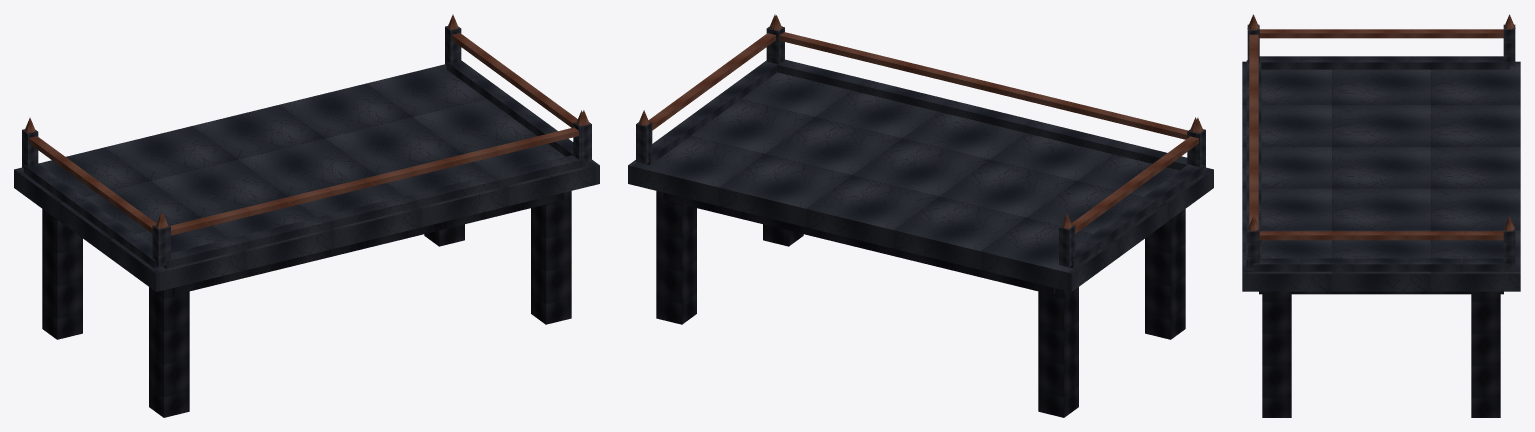
Rendered from blackstone-terrace.glb.
3 renders of one model, left to right at view 1: azimuth 30°, elevation 25°; view 2: azimuth 150°, elevation 25°; view 3: azimuth 270°, elevation 25°, orthographic. The views are drawn at different scales.
Parts seen in each view (by area): view 1: Terrace_Deck, Terrace_RearRail_Foot, Terrace_Support_-1_1, Terrace_Support_1_1, Terrace_Support_-1_-1, Terrace_RearRail_Rail, Terrace_Underdeck, Terrace_SideRail_-1_Foot, Terrace_SideRail_1_Foot, Terrace_SideRail_-1_Rail, Terrace_SideRail_1_Rail, Terrace_SideRail_-1_Post_2 (+1 smaller); view 2: Terrace_Deck, Terrace_RearRail_Foot, Terrace_Support_-1_-1, Terrace_Support_1_-1, Terrace_Support_-1_1, Terrace_RearRail_Rail, Terrace_Underdeck, Terrace_SideRail_-1_Foot, Terrace_SideRail_1_Foot, Terrace_SideRail_-1_Rail, Terrace_SideRail_1_Rail, Terrace_SideRail_-1_Post_1 (+2 smaller); view 3: Terrace_Deck, Terrace_Support_1_-1, Terrace_Support_1_1, Terrace_SideRail_1_Foot, Terrace_SideRail_-1_Foot, Terrace_SideRail_1_Rail, Terrace_SideRail_-1_Rail, Terrace_RearRail_Rail, Terrace_RearRail_Foot, Terrace_Underdeck, Terrace_SideRail_-1_Post_1, Terrace_SideRail_1_Post_1 (+1 smaller).
Part boxes in pixels (x1=…): Terrace_Deck: x1=14, y1=64, x2=599, y2=291; Terrace_RearRail_Foot: x1=163, y1=155, x2=585, y2=268; Terrace_Support_-1_1: x1=149, y1=287, x2=189, y2=417; Terrace_Support_1_1: x1=531, y1=191, x2=571, y2=324; Terrace_Support_-1_-1: x1=42, y1=209, x2=82, y2=339; Terrace_RearRail_Rail: x1=170, y1=127, x2=578, y2=235; Terrace_Underdeck: x1=172, y1=192, x2=564, y2=294; Terrace_SideRail_-1_Foot: x1=23, y1=163, x2=158, y2=268; Terrace_SideRail_1_Foot: x1=446, y1=60, x2=573, y2=156; Terrace_SideRail_-1_Rail: x1=29, y1=136, x2=156, y2=233; Terrace_SideRail_1_Rail: x1=451, y1=33, x2=577, y2=127; Terrace_SideRail_-1_Post_2: x1=152, y1=225, x2=168, y2=267; Terrace_Deck: x1=628, y1=72, x2=1213, y2=291; Terrace_RearRail_Foot: x1=774, y1=59, x2=1187, y2=170; Terrace_Support_-1_-1: x1=1038, y1=287, x2=1078, y2=417; Terrace_Support_1_-1: x1=656, y1=191, x2=696, y2=324; Terrace_Support_-1_1: x1=1145, y1=209, x2=1185, y2=339; Terrace_RearRail_Rail: x1=779, y1=32, x2=1187, y2=139; Terrace_Underdeck: x1=663, y1=192, x2=1055, y2=294; Terrace_SideRail_-1_Foot: x1=1069, y1=164, x2=1204, y2=268; Terrace_SideRail_1_Foot: x1=646, y1=60, x2=777, y2=165; Terrace_SideRail_-1_Rail: x1=1071, y1=136, x2=1198, y2=233; Terrace_SideRail_1_Rail: x1=648, y1=33, x2=775, y2=130; Terrace_SideRail_-1_Post_1: x1=1059, y1=225, x2=1075, y2=267; Terrace_Deck: x1=1242, y1=61, x2=1520, y2=291; Terrace_Support_1_-1: x1=1471, y1=291, x2=1500, y2=417; Terrace_Support_1_1: x1=1262, y1=291, x2=1291, y2=417; Terrace_SideRail_1_Foot: x1=1253, y1=258, x2=1509, y2=271; Terrace_SideRail_-1_Foot: x1=1259, y1=56, x2=1509, y2=69; Terrace_SideRail_1_Rail: x1=1259, y1=231, x2=1503, y2=240; Terrace_SideRail_-1_Rail: x1=1259, y1=29, x2=1503, y2=38; Terrace_RearRail_Rail: x1=1249, y1=34, x2=1258, y2=225; Terrace_RearRail_Foot: x1=1246, y1=60, x2=1261, y2=267; Terrace_Underdeck: x1=1259, y1=291, x2=1503, y2=294; Terrace_SideRail_-1_Post_1: x1=1503, y1=24, x2=1515, y2=66; Terrace_SideRail_1_Post_1: x1=1503, y1=226, x2=1515, y2=268.
Size of the model in its own units: 18 by 8.15 by 10.
3 materials, 3 textured.
